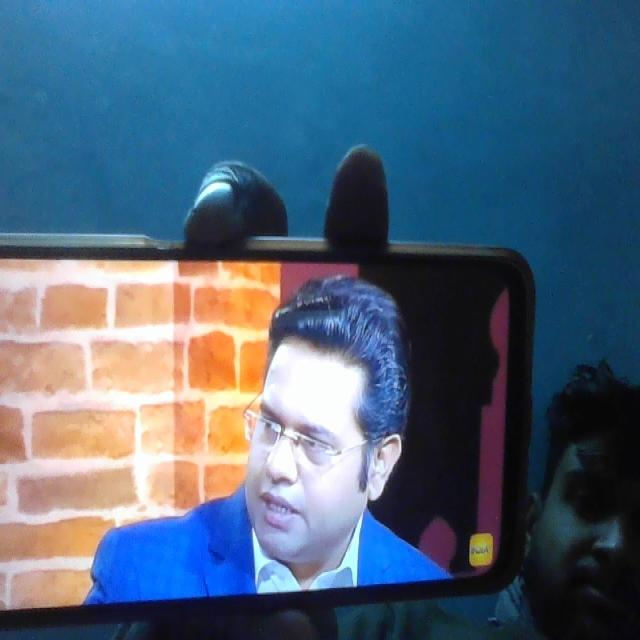fake: (239, 287, 391, 573)
